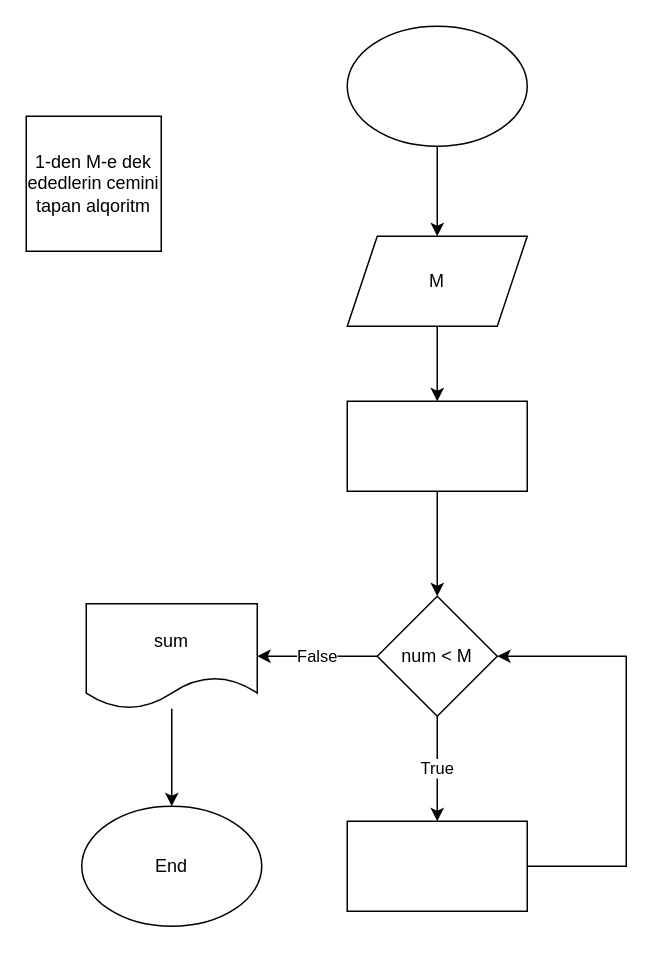
This 665x953 diagram has some shape labels left out. Each missing label, with the centre of its shape:
"Start" goes at (x=436, y=85).
"sum += num num ++" goes at (x=436, y=865).
"sum = 0 num = 1" goes at (x=436, y=445).
